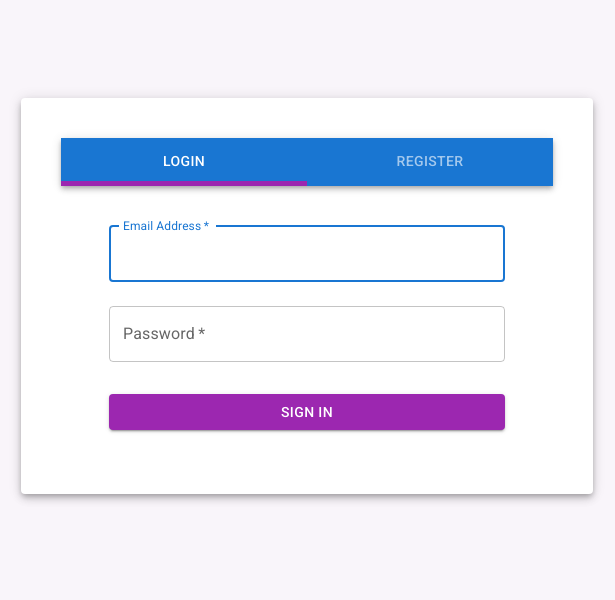
Test: <LoginPage /> › displays RegisterForm when the Register tab is selected
Click the Register tab to switch to the Register form
Click the tab "Register": (430, 162) [307,138,553,186]
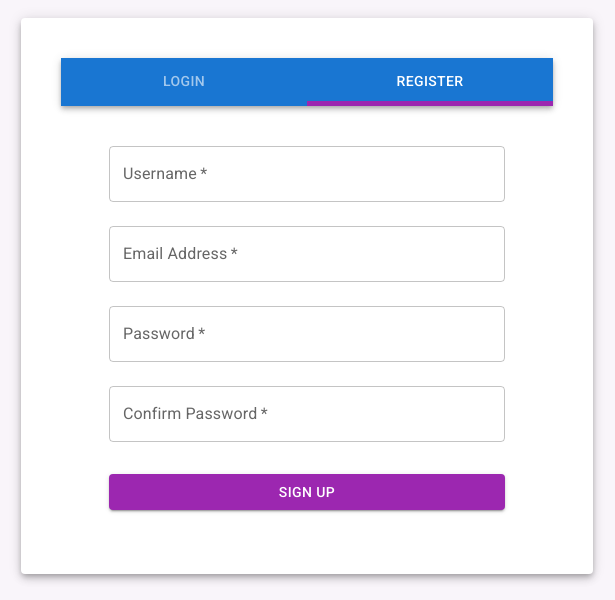
Check: the button "Sign Up" is shown, box [109,474,505,510]
Check: the button "Sign In" is gone
